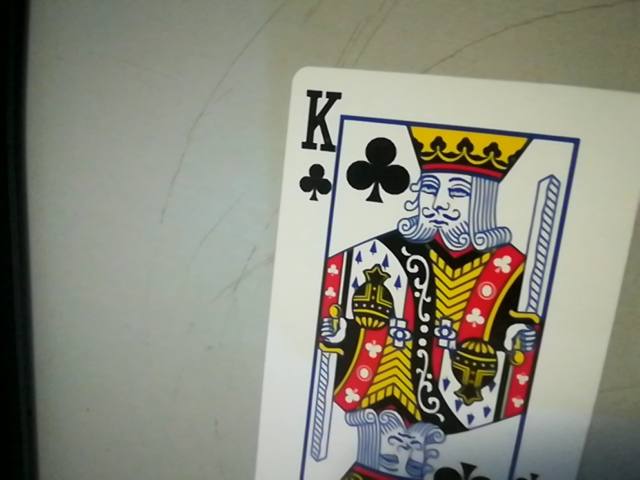mh k: (290, 80, 345, 203)
